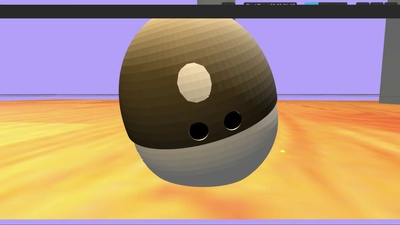mira_robot: (118, 19, 279, 187)
